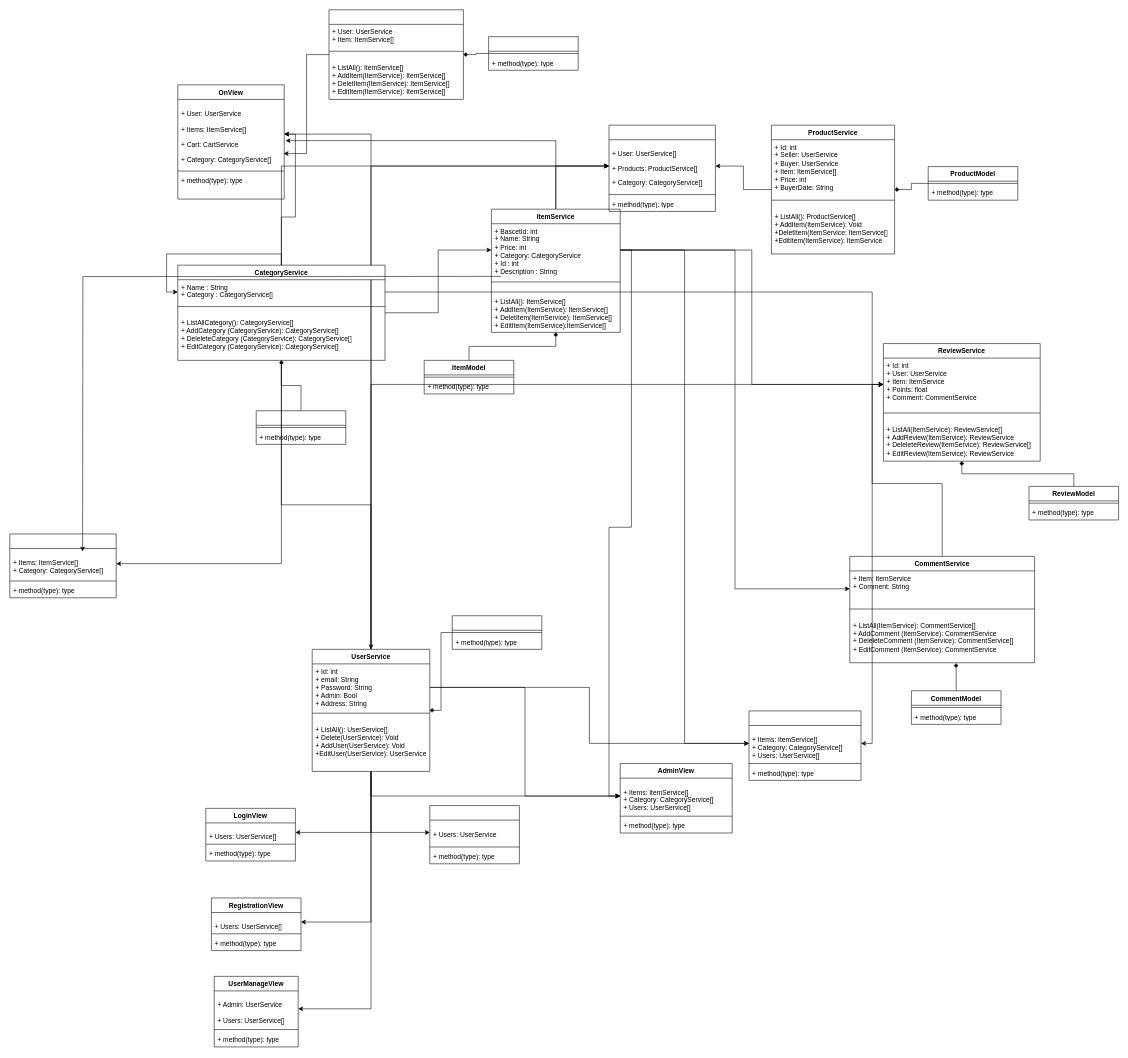
Image size: 1128x1058. Some labels were removed from this diagram. Each missing label, with the box of its shape:
AddEditView: (9, 533, 116, 598)
CartModel: (488, 36, 578, 70)
CartService: (328, 9, 463, 99)
CategoryModel: (256, 410, 346, 444)
ProductView: (608, 125, 715, 211)
SellerView: (748, 710, 861, 780)
UserModel: (452, 615, 542, 649)
UserView: (429, 805, 519, 864)
